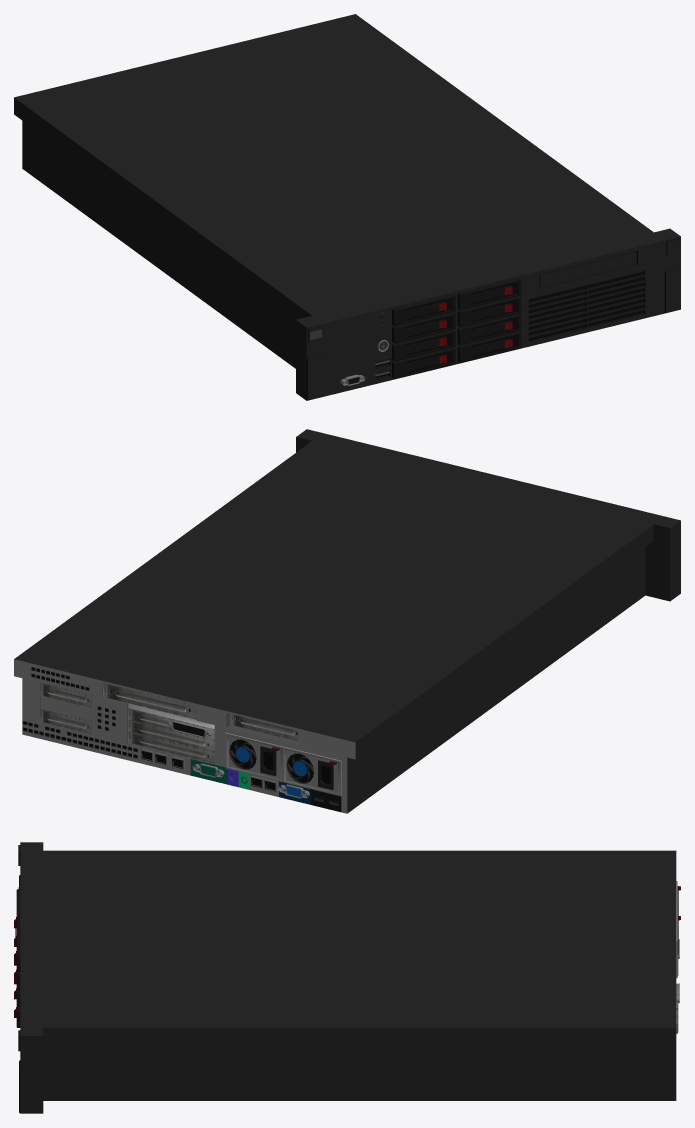
The picture shows the model from 3 angles, top to bottom: view 1: azimuth 30°, elevation 25°; view 2: azimuth 150°, elevation 25°; view 3: azimuth 270°, elevation 25°; orthographic projection. The views are drawn at different scales.
Parts seen in each view (by area): view 1: HPE_DL380_G6; view 2: HPE_DL380_G6; view 3: HPE_DL380_G6.
Boxes of the visible parts, <box> form: HPE_DL380_G6: <box>14,14,680,400</box>; HPE_DL380_G6: <box>14,429,680,813</box>; HPE_DL380_G6: <box>14,842,680,1113</box>.
Bounding box in the file's own units: 475 × 89 × 692.
Materials: 23 (1 with a texture image).
